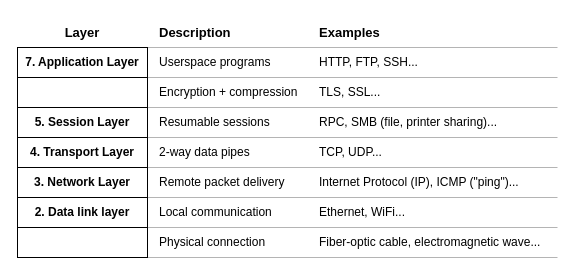
Image size: 576x276. Some labels were removed from this diagram. Each missing label, with the box of its shape:
1. Physical layer: (16, 226, 148, 258)
6. Presentation Layer: (16, 76, 148, 108)
